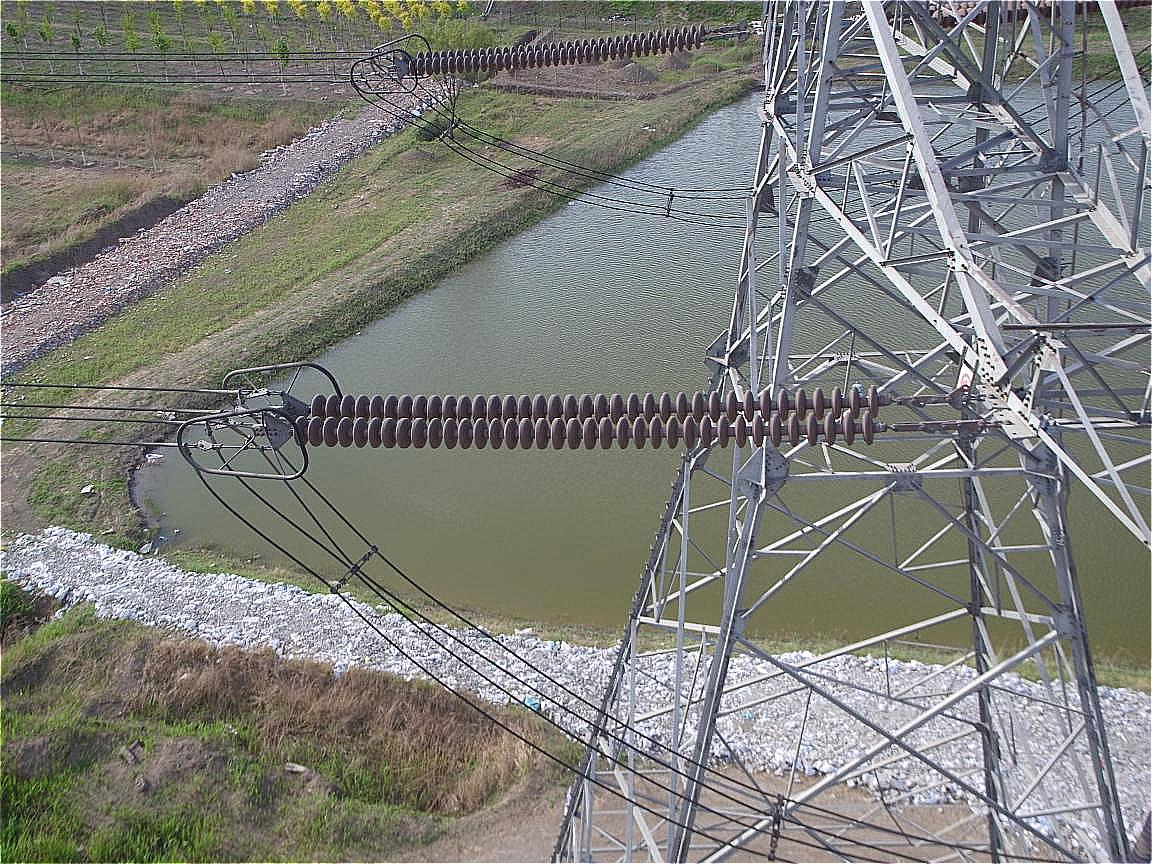insultor1: (279, 377, 884, 466), (385, 11, 739, 75)
